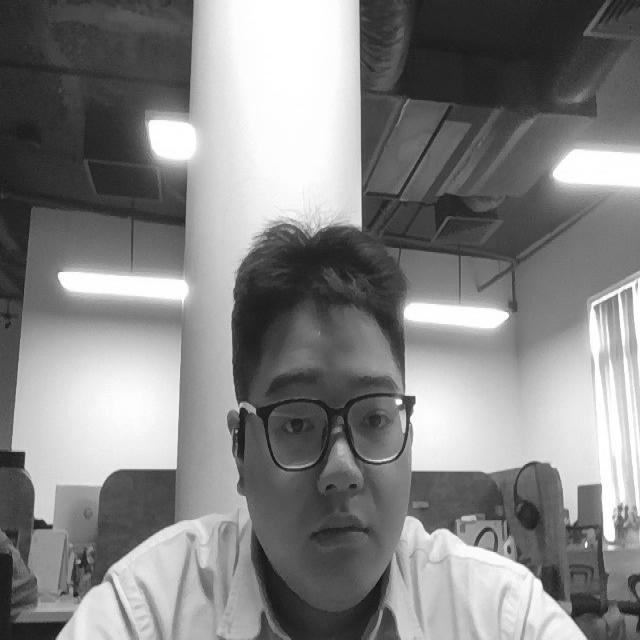real: (223, 196, 425, 612), (253, 384, 408, 455)
